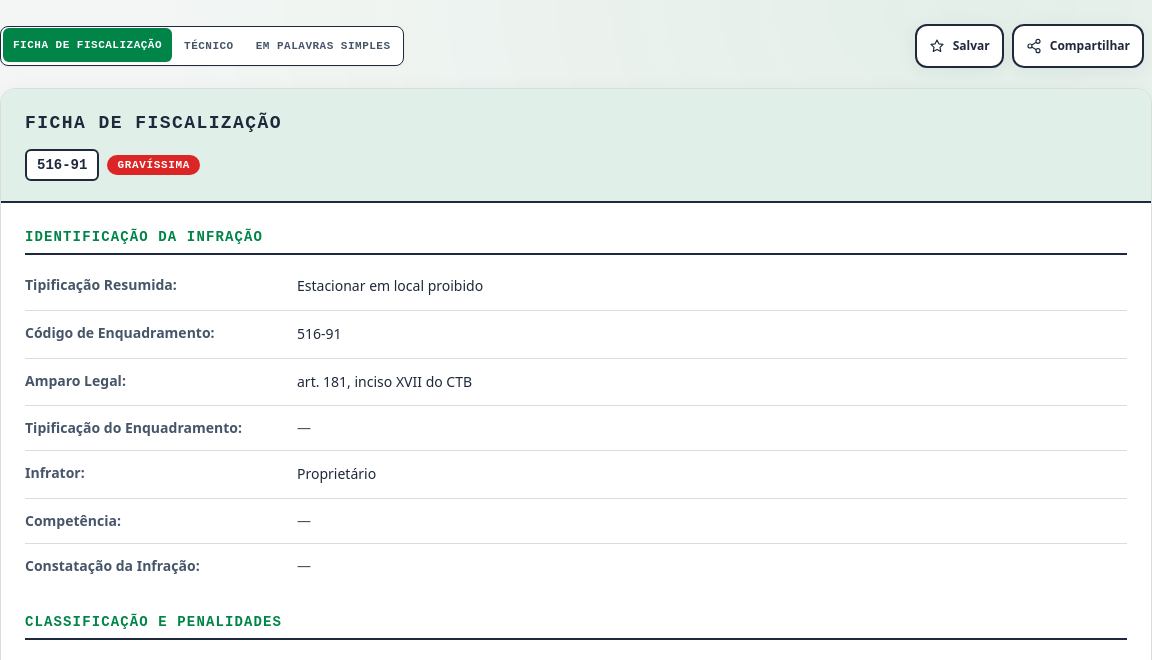
Scenario: ConsultaResult › displays error items on the technical view
This screenshot has width=1152, height=660.
Click the tab "Técnico": (209, 46) [174,29,244,63]
(page scrolled)
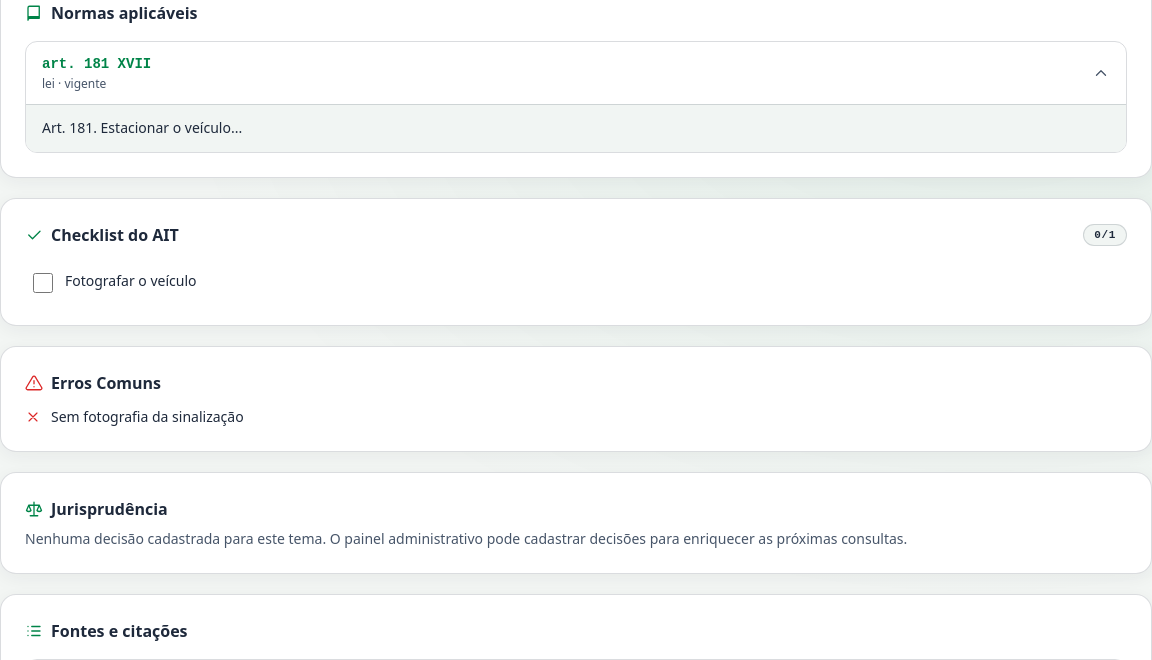
Expected: the text "Sem fotografia da sinalização" is shown, [51,407,244,427]
